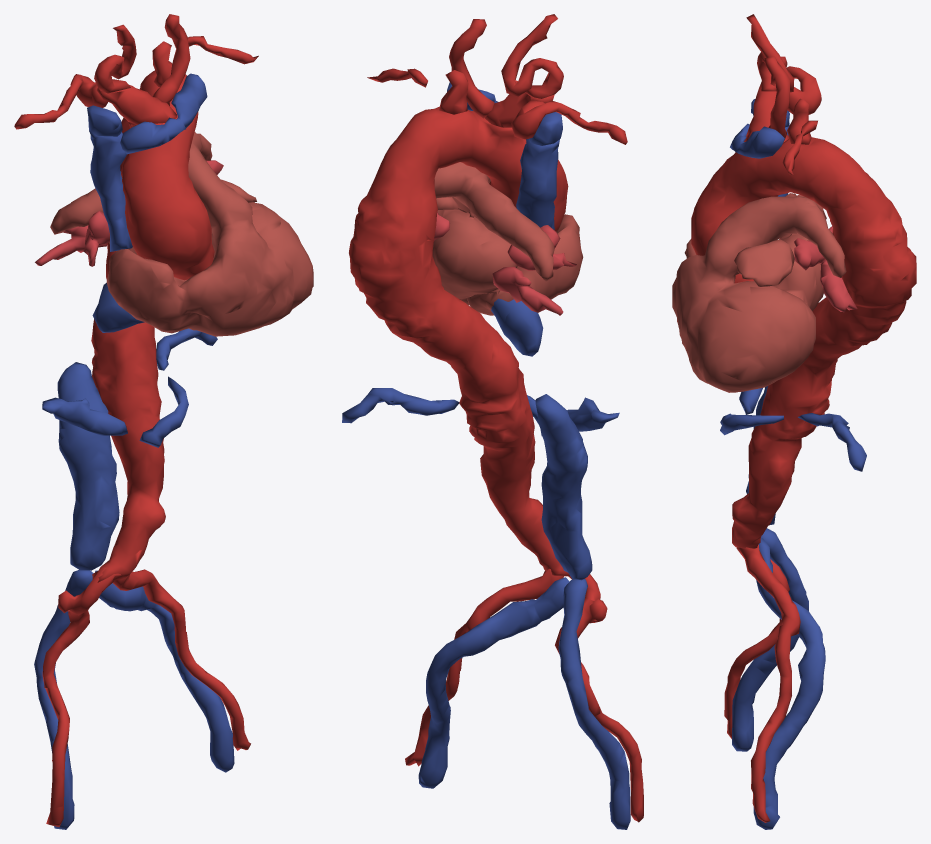
The model's file is tsd_s0196_older_adult_female.cardiovascular.LOD3.glb.
3 views of the same model, side by side, from view 1: azimuth 30°, elevation 25°; view 2: azimuth 150°, elevation 25°; view 3: azimuth 270°, elevation 25° (orthographic). The views are drawn at different scales.
Parts seen in each view (by area): view 1: TSD_S0196.OLDER_ADULT.FEMALE.CARDIOVASCULAR.AORTA, TSD_S0196.OLDER_ADULT.FEMALE.CARDIOVASCULAR.HEART_ALL_CHAMBE, TSD_S0196.OLDER_ADULT.FEMALE.CARDIOVASCULAR.INFERIOR_VENA_CA, TSD_S0196.OLDER_ADULT.FEMALE.CARDIOVASCULAR.BRACHIOCEPHALIC_ (×3), TSD_S0196.OLDER_ADULT.FEMALE.CARDIOVASCULAR.ILIAC_ARTERY.R, TSD_S0196.OLDER_ADULT.FEMALE.CARDIOVASCULAR.ILIAC_VEIN.L, TSD_S0196.OLDER_ADULT.FEMALE.CARDIOVASCULAR.PORTAL_VEIN_AND_, TSD_S0196.OLDER_ADULT.FEMALE.CARDIOVASCULAR.ILIAC_ARTERY.L, TSD_S0196.OLDER_ADULT.FEMALE.CARDIOVASCULAR.COMMON_CAROTID_A (×2), TSD_S0196.OLDER_ADULT.FEMALE.CARDIOVASCULAR.SUPERIOR_VENA_CA, TSD_S0196.OLDER_ADULT.FEMALE.CARDIOVASCULAR.ILIAC_VEIN.R, TSD_S0196.OLDER_ADULT.FEMALE.CARDIOVASCULAR.SUBCLAVIAN_ARTER (×2) (+1 smaller); view 2: TSD_S0196.OLDER_ADULT.FEMALE.CARDIOVASCULAR.AORTA, TSD_S0196.OLDER_ADULT.FEMALE.CARDIOVASCULAR.HEART_ALL_CHAMBE, TSD_S0196.OLDER_ADULT.FEMALE.CARDIOVASCULAR.INFERIOR_VENA_CA, TSD_S0196.OLDER_ADULT.FEMALE.CARDIOVASCULAR.ILIAC_VEIN.L, TSD_S0196.OLDER_ADULT.FEMALE.CARDIOVASCULAR.ILIAC_VEIN.R, TSD_S0196.OLDER_ADULT.FEMALE.CARDIOVASCULAR.COMMON_CAROTID_A (×2), TSD_S0196.OLDER_ADULT.FEMALE.CARDIOVASCULAR.SUBCLAVIAN_ARTER (×2), TSD_S0196.OLDER_ADULT.FEMALE.CARDIOVASCULAR.ILIAC_ARTERY.R, TSD_S0196.OLDER_ADULT.FEMALE.CARDIOVASCULAR.SUPERIOR_VENA_CA, TSD_S0196.OLDER_ADULT.FEMALE.CARDIOVASCULAR.PORTAL_VEIN_AND_, TSD_S0196.OLDER_ADULT.FEMALE.CARDIOVASCULAR.ILIAC_ARTERY.L, TSD_S0196.OLDER_ADULT.FEMALE.CARDIOVASCULAR.PULMONARY_VEINS_ (+1 smaller); view 3: TSD_S0196.OLDER_ADULT.FEMALE.CARDIOVASCULAR.AORTA, TSD_S0196.OLDER_ADULT.FEMALE.CARDIOVASCULAR.HEART_ALL_CHAMBE, TSD_S0196.OLDER_ADULT.FEMALE.CARDIOVASCULAR.ILIAC_VEIN.L, TSD_S0196.OLDER_ADULT.FEMALE.CARDIOVASCULAR.ILIAC_ARTERY.L, TSD_S0196.OLDER_ADULT.FEMALE.CARDIOVASCULAR.ILIAC_VEIN.R, TSD_S0196.OLDER_ADULT.FEMALE.CARDIOVASCULAR.PORTAL_VEIN_AND_, TSD_S0196.OLDER_ADULT.FEMALE.CARDIOVASCULAR.COMMON_CAROTID_A (×2), TSD_S0196.OLDER_ADULT.FEMALE.CARDIOVASCULAR.SUBCLAVIAN_ARTER (×2), TSD_S0196.OLDER_ADULT.FEMALE.CARDIOVASCULAR.BRACHIOCEPHALIC_ (×2), TSD_S0196.OLDER_ADULT.FEMALE.CARDIOVASCULAR.LEFT_ATRIAL_APPE, TSD_S0196.OLDER_ADULT.FEMALE.CARDIOVASCULAR.PULMONARY_VEINS_, TSD_S0196.OLDER_ADULT.FEMALE.CARDIOVASCULAR.ILIAC_ARTERY.R.
Boxes of the visible parts, box(x1,y1,x2,y2) form: TSD_S0196.OLDER_ADULT.FEMALE.CARDIOVASCULAR.AORTA: box(91, 70, 214, 582); TSD_S0196.OLDER_ADULT.FEMALE.CARDIOVASCULAR.HEART_ALL_CHAMBE: box(50, 131, 313, 336); TSD_S0196.OLDER_ADULT.FEMALE.CARDIOVASCULAR.INFERIOR_VENA_CA: box(57, 283, 144, 570); TSD_S0196.OLDER_ADULT.FEMALE.CARDIOVASCULAR.BRACHIOCEPHALIC_ (×3): box(87, 73, 207, 154); TSD_S0196.OLDER_ADULT.FEMALE.CARDIOVASCULAR.ILIAC_ARTERY.R: box(42, 567, 121, 826); TSD_S0196.OLDER_ADULT.FEMALE.CARDIOVASCULAR.ILIAC_VEIN.L: box(95, 570, 234, 772); TSD_S0196.OLDER_ADULT.FEMALE.CARDIOVASCULAR.PORTAL_VEIN_AND_: box(42, 328, 217, 447); TSD_S0196.OLDER_ADULT.FEMALE.CARDIOVASCULAR.ILIAC_ARTERY.L: box(113, 569, 250, 750); TSD_S0196.OLDER_ADULT.FEMALE.CARDIOVASCULAR.COMMON_CAROTID_A (×2): box(94, 14, 190, 105); TSD_S0196.OLDER_ADULT.FEMALE.CARDIOVASCULAR.SUPERIOR_VENA_CA: box(89, 130, 132, 251); TSD_S0196.OLDER_ADULT.FEMALE.CARDIOVASCULAR.ILIAC_VEIN.R: box(34, 570, 93, 829); TSD_S0196.OLDER_ADULT.FEMALE.CARDIOVASCULAR.SUBCLAVIAN_ARTER (×2): box(14, 36, 258, 129); TSD_S0196.OLDER_ADULT.FEMALE.CARDIOVASCULAR.AORTA: box(349, 106, 570, 576); TSD_S0196.OLDER_ADULT.FEMALE.CARDIOVASCULAR.HEART_ALL_CHAMBE: box(432, 162, 583, 315); TSD_S0196.OLDER_ADULT.FEMALE.CARDIOVASCULAR.INFERIOR_VENA_CA: box(490, 298, 592, 580); TSD_S0196.OLDER_ADULT.FEMALE.CARDIOVASCULAR.ILIAC_VEIN.L: box(418, 577, 569, 788); TSD_S0196.OLDER_ADULT.FEMALE.CARDIOVASCULAR.ILIAC_VEIN.R: box(558, 579, 630, 829); TSD_S0196.OLDER_ADULT.FEMALE.CARDIOVASCULAR.COMMON_CAROTID_A (×2): box(449, 14, 563, 118); TSD_S0196.OLDER_ADULT.FEMALE.CARDIOVASCULAR.SUBCLAVIAN_ARTER (×2): box(367, 68, 627, 144); TSD_S0196.OLDER_ADULT.FEMALE.CARDIOVASCULAR.ILIAC_ARTERY.R: box(555, 574, 643, 822); TSD_S0196.OLDER_ADULT.FEMALE.CARDIOVASCULAR.SUPERIOR_VENA_CA: box(516, 139, 559, 229); TSD_S0196.OLDER_ADULT.FEMALE.CARDIOVASCULAR.PORTAL_VEIN_AND_: box(342, 388, 619, 431); TSD_S0196.OLDER_ADULT.FEMALE.CARDIOVASCULAR.ILIAC_ARTERY.L: box(405, 568, 563, 766); TSD_S0196.OLDER_ADULT.FEMALE.CARDIOVASCULAR.PULMONARY_VEINS_: box(433, 212, 576, 315); TSD_S0196.OLDER_ADULT.FEMALE.CARDIOVASCULAR.AORTA: box(691, 134, 916, 548); TSD_S0196.OLDER_ADULT.FEMALE.CARDIOVASCULAR.HEART_ALL_CHAMBE: box(672, 193, 846, 392); TSD_S0196.OLDER_ADULT.FEMALE.CARDIOVASCULAR.ILIAC_VEIN.L: box(753, 538, 825, 829); TSD_S0196.OLDER_ADULT.FEMALE.CARDIOVASCULAR.ILIAC_ARTERY.L: box(736, 544, 800, 822); TSD_S0196.OLDER_ADULT.FEMALE.CARDIOVASCULAR.ILIAC_VEIN.R: box(732, 528, 808, 751); TSD_S0196.OLDER_ADULT.FEMALE.CARDIOVASCULAR.PORTAL_VEIN_AND_: box(720, 388, 866, 471); TSD_S0196.OLDER_ADULT.FEMALE.CARDIOVASCULAR.COMMON_CAROTID_A (×2): box(746, 14, 794, 137); TSD_S0196.OLDER_ADULT.FEMALE.CARDIOVASCULAR.SUBCLAVIAN_ARTER (×2): box(781, 56, 821, 174); TSD_S0196.OLDER_ADULT.FEMALE.CARDIOVASCULAR.BRACHIOCEPHALIC_ (×2): box(730, 82, 786, 158); TSD_S0196.OLDER_ADULT.FEMALE.CARDIOVASCULAR.LEFT_ATRIAL_APPE: box(734, 239, 794, 286); TSD_S0196.OLDER_ADULT.FEMALE.CARDIOVASCULAR.PULMONARY_VEINS_: box(779, 226, 857, 312); TSD_S0196.OLDER_ADULT.FEMALE.CARDIOVASCULAR.ILIAC_ARTERY.R: box(724, 559, 789, 738).
Bounding box in the file's own units: 0.19 × 0.5278 × 0.1531.
